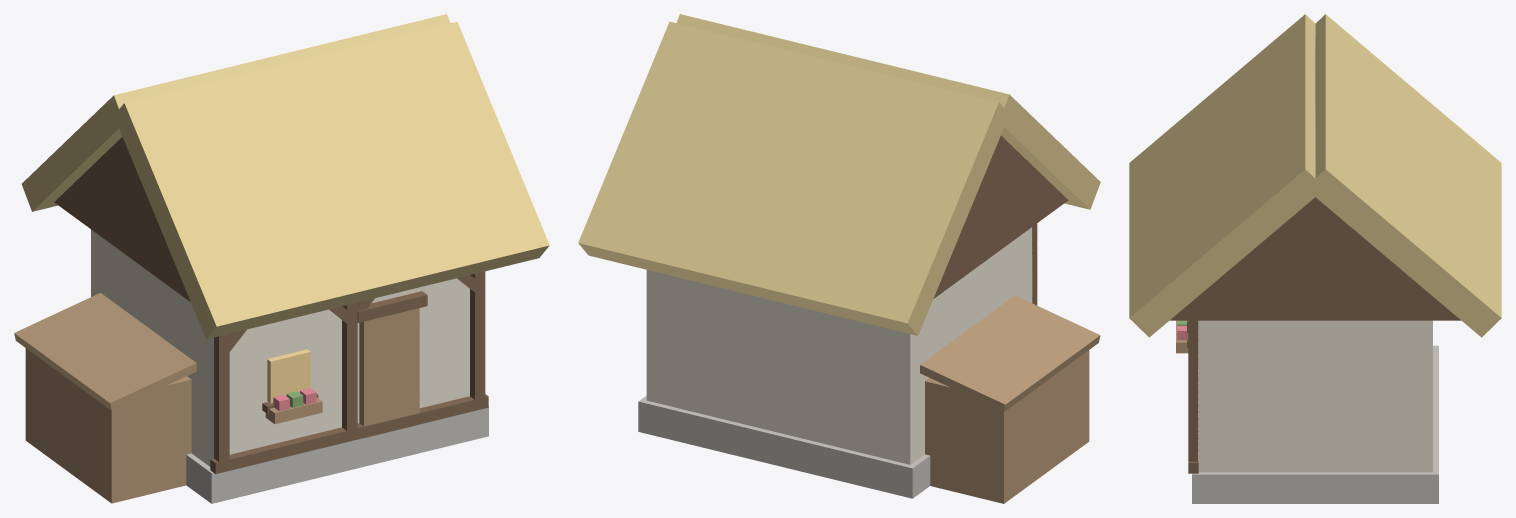
Rendered from cottage_d.glb.
The picture shows the model from 3 angles, left to right: view 1: azimuth 30°, elevation 25°; view 2: azimuth 150°, elevation 25°; view 3: azimuth 270°, elevation 25°; orthographic projection. The views are drawn at different scales.
Parts seen in each view (by area): view 1: Cube.011, Cube.001, Cube.021, Cube.022, Cube, Cube.012, hastial, Cube.013, Cube.002, Cube.004, Cube.005, Cube.006 (+3 smaller); view 2: Cube.012, Cube.001, Cube.021, Cube.022, Cube, Cube.011, hastial; view 3: Cube.001, Cube.011, Cube.012, hastial.001, Cube, Cube.005.
Boxes of the visible parts, <box> form: Cube.011: <box>114,21,549,339</box>; Cube.001: <box>91,229,469,466</box>; Cube.021: <box>25,348,191,503</box>; Cube.022: <box>14,293,196,410</box>; Cube: <box>186,406,488,503</box>; Cube.012: <box>21,14,450,211</box>; hastial: <box>54,137,190,301</box>; Cube.013: <box>359,308,419,438</box>; Cube.002: <box>210,394,488,473</box>; Cube.004: <box>214,333,229,473</box>; Cube.005: <box>470,271,485,408</box>; Cube.006: <box>342,302,357,430</box>; Cube.012: <box>578,21,1008,335</box>; Cube.001: <box>646,227,1032,464</box>; Cube.021: <box>925,350,1089,503</box>; Cube.022: <box>920,295,1100,412</box>; Cube: <box>638,396,930,498</box>; Cube.011: <box>676,14,1100,209</box>; hastial: <box>933,135,1068,298</box>; Cube.001: <box>1198,320,1432,472</box>; Cube.011: <box>1129,14,1325,337</box>; Cube.012: <box>1306,14,1501,337</box>; hastial.001: <box>1170,197,1460,320</box>; Cube: <box>1192,345,1438,503</box>; Cube.005: <box>1188,320,1198,461</box>.
Size of the model in its own units: 2.9 by 2.61 by 2.54.
